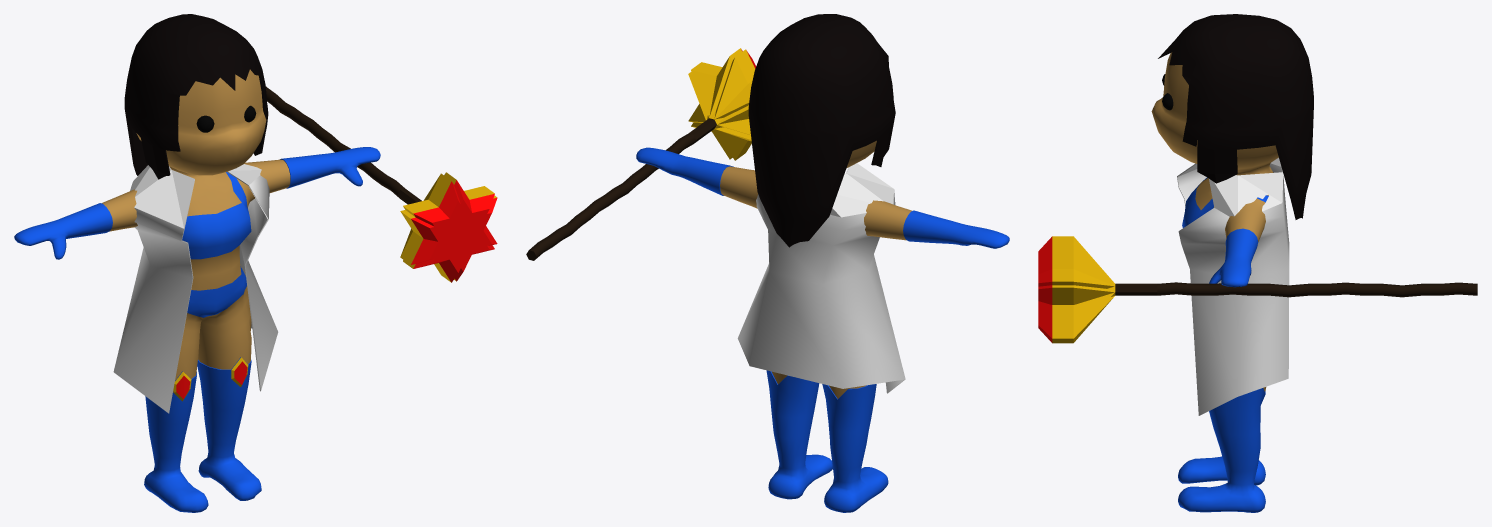
The model's file is Mage.FBX.
3 renders of one model, left to right at view 1: azimuth 30°, elevation 25°; view 2: azimuth 150°, elevation 25°; view 3: azimuth 270°, elevation 25°, orthographic. The views are drawn at different scales.
Parts seen in each view (by area): view 1: Female_Character, clothing, Cylinder001; view 2: Female_Character, clothing, Cylinder001; view 3: Female_Character, clothing, Cylinder001.
Part boxes in pixels (bbox=[...]): Female_Character: bbox=[14, 14, 380, 512]; clothing: bbox=[113, 164, 278, 413]; Cylinder001: bbox=[265, 86, 497, 282]; Female_Character: bbox=[636, 14, 1009, 512]; clothing: bbox=[737, 163, 905, 393]; Cylinder001: bbox=[526, 48, 756, 260]; Female_Character: bbox=[1151, 14, 1313, 512]; clothing: bbox=[1177, 157, 1289, 415]; Cylinder001: bbox=[1038, 236, 1477, 343].
Bounding box in the file's own units: 0.9896 × 1.11 × 0.9383.
